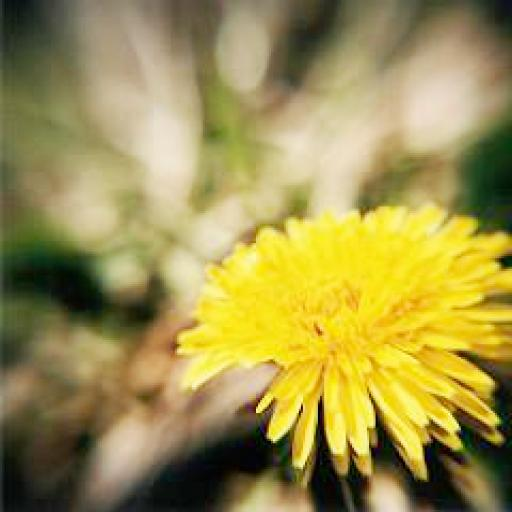dandelion: (175, 196, 512, 475)
